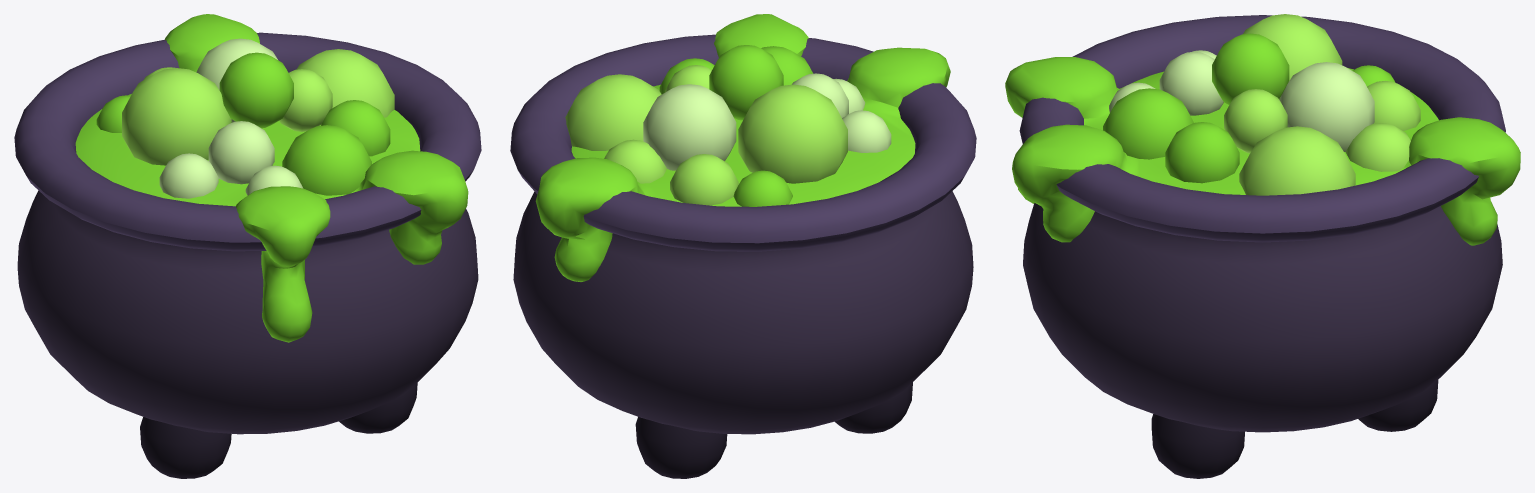
Rendered from GreenCauldron.fbx.
3 views of the same model, side by side, from view 1: azimuth 30°, elevation 25°; view 2: azimuth 150°, elevation 25°; view 3: azimuth 270°, elevation 25° (orthographic). The views are drawn at different scales.
Parts seen in each view (by area): view 1: GreenCauldron; view 2: GreenCauldron; view 3: GreenCauldron.
Part boxes in pixels (x1=…): GreenCauldron: x1=14, y1=14, x2=481, y2=478; GreenCauldron: x1=510, y1=14, x2=976, y2=478; GreenCauldron: x1=1005, y1=14, x2=1520, y2=478.
Size of the model in its own units: 208 by 182 by 221.
Materials: 1 (1 with a texture image).
